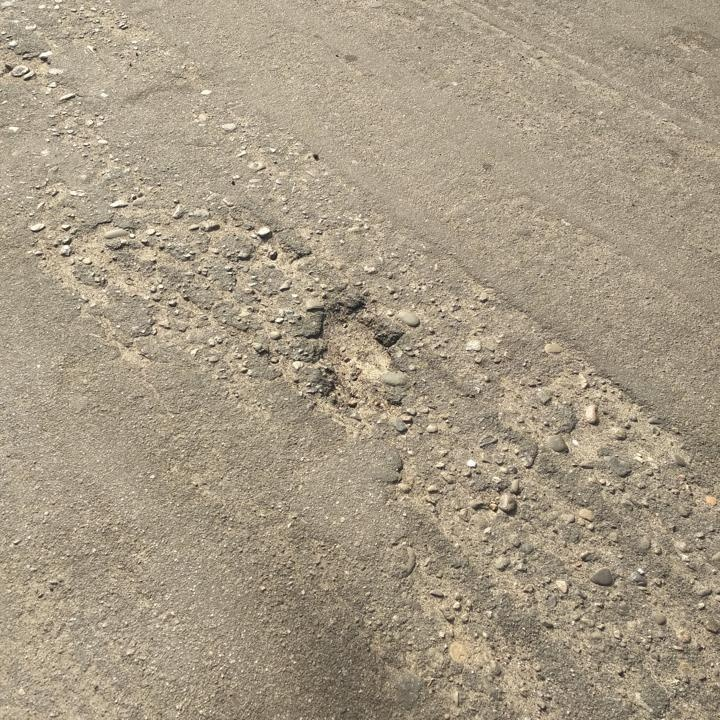pothole: (311, 298, 409, 418), (240, 218, 307, 277)
